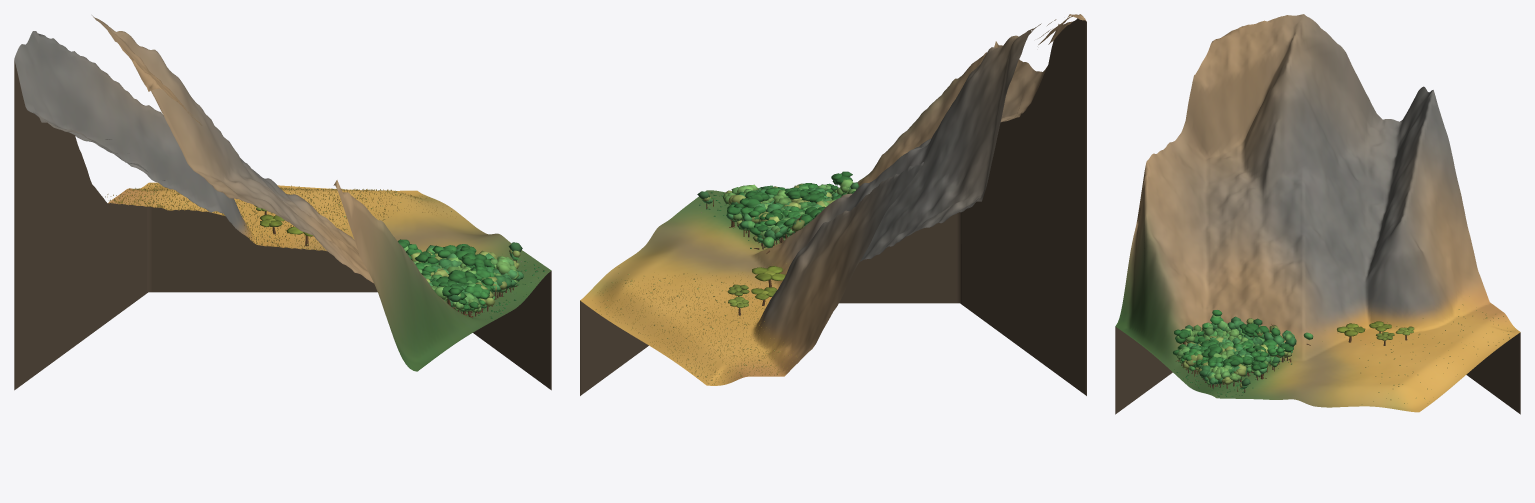
The picture shows the model from 3 angles, left to right: view 1: azimuth 30°, elevation 25°; view 2: azimuth 150°, elevation 25°; view 3: azimuth 270°, elevation 25°; orthographic projection. The views are drawn at different scales.
Visible parts, largest first — view 1: terrain, hex_side_cut, J_W_broadleaf_canopy, SV4_W_wildflowers; view 2: terrain, hex_side_cut, J_W_broadleaf_canopy, SV4_W_wildflowers, SV4_W_broadleaf_canopy; view 3: terrain, J_W_broadleaf_canopy, hex_side_cut, SV4_W_broadleaf_canopy.
Boxes of the visible parts, x1,y1,x2,y2 form: terrain: (14, 15, 551, 371); hex_side_cut: (14, 60, 551, 390); J_W_broadleaf_canopy: (398, 239, 523, 312); SV4_W_wildflowers: (105, 183, 426, 250); terrain: (580, 14, 1086, 385); hex_side_cut: (580, 18, 1086, 395); J_W_broadleaf_canopy: (697, 171, 859, 247); SV4_W_wildflowers: (597, 265, 797, 384); SV4_W_broadleaf_canopy: (727, 266, 785, 307); terrain: (1115, 14, 1520, 412); J_W_broadleaf_canopy: (1173, 310, 1313, 388); hex_side_cut: (1115, 326, 1520, 414); SV4_W_broadleaf_canopy: (1337, 321, 1414, 340).
Bounding box in the file's own units: 4330 × 4441 × 5000.
